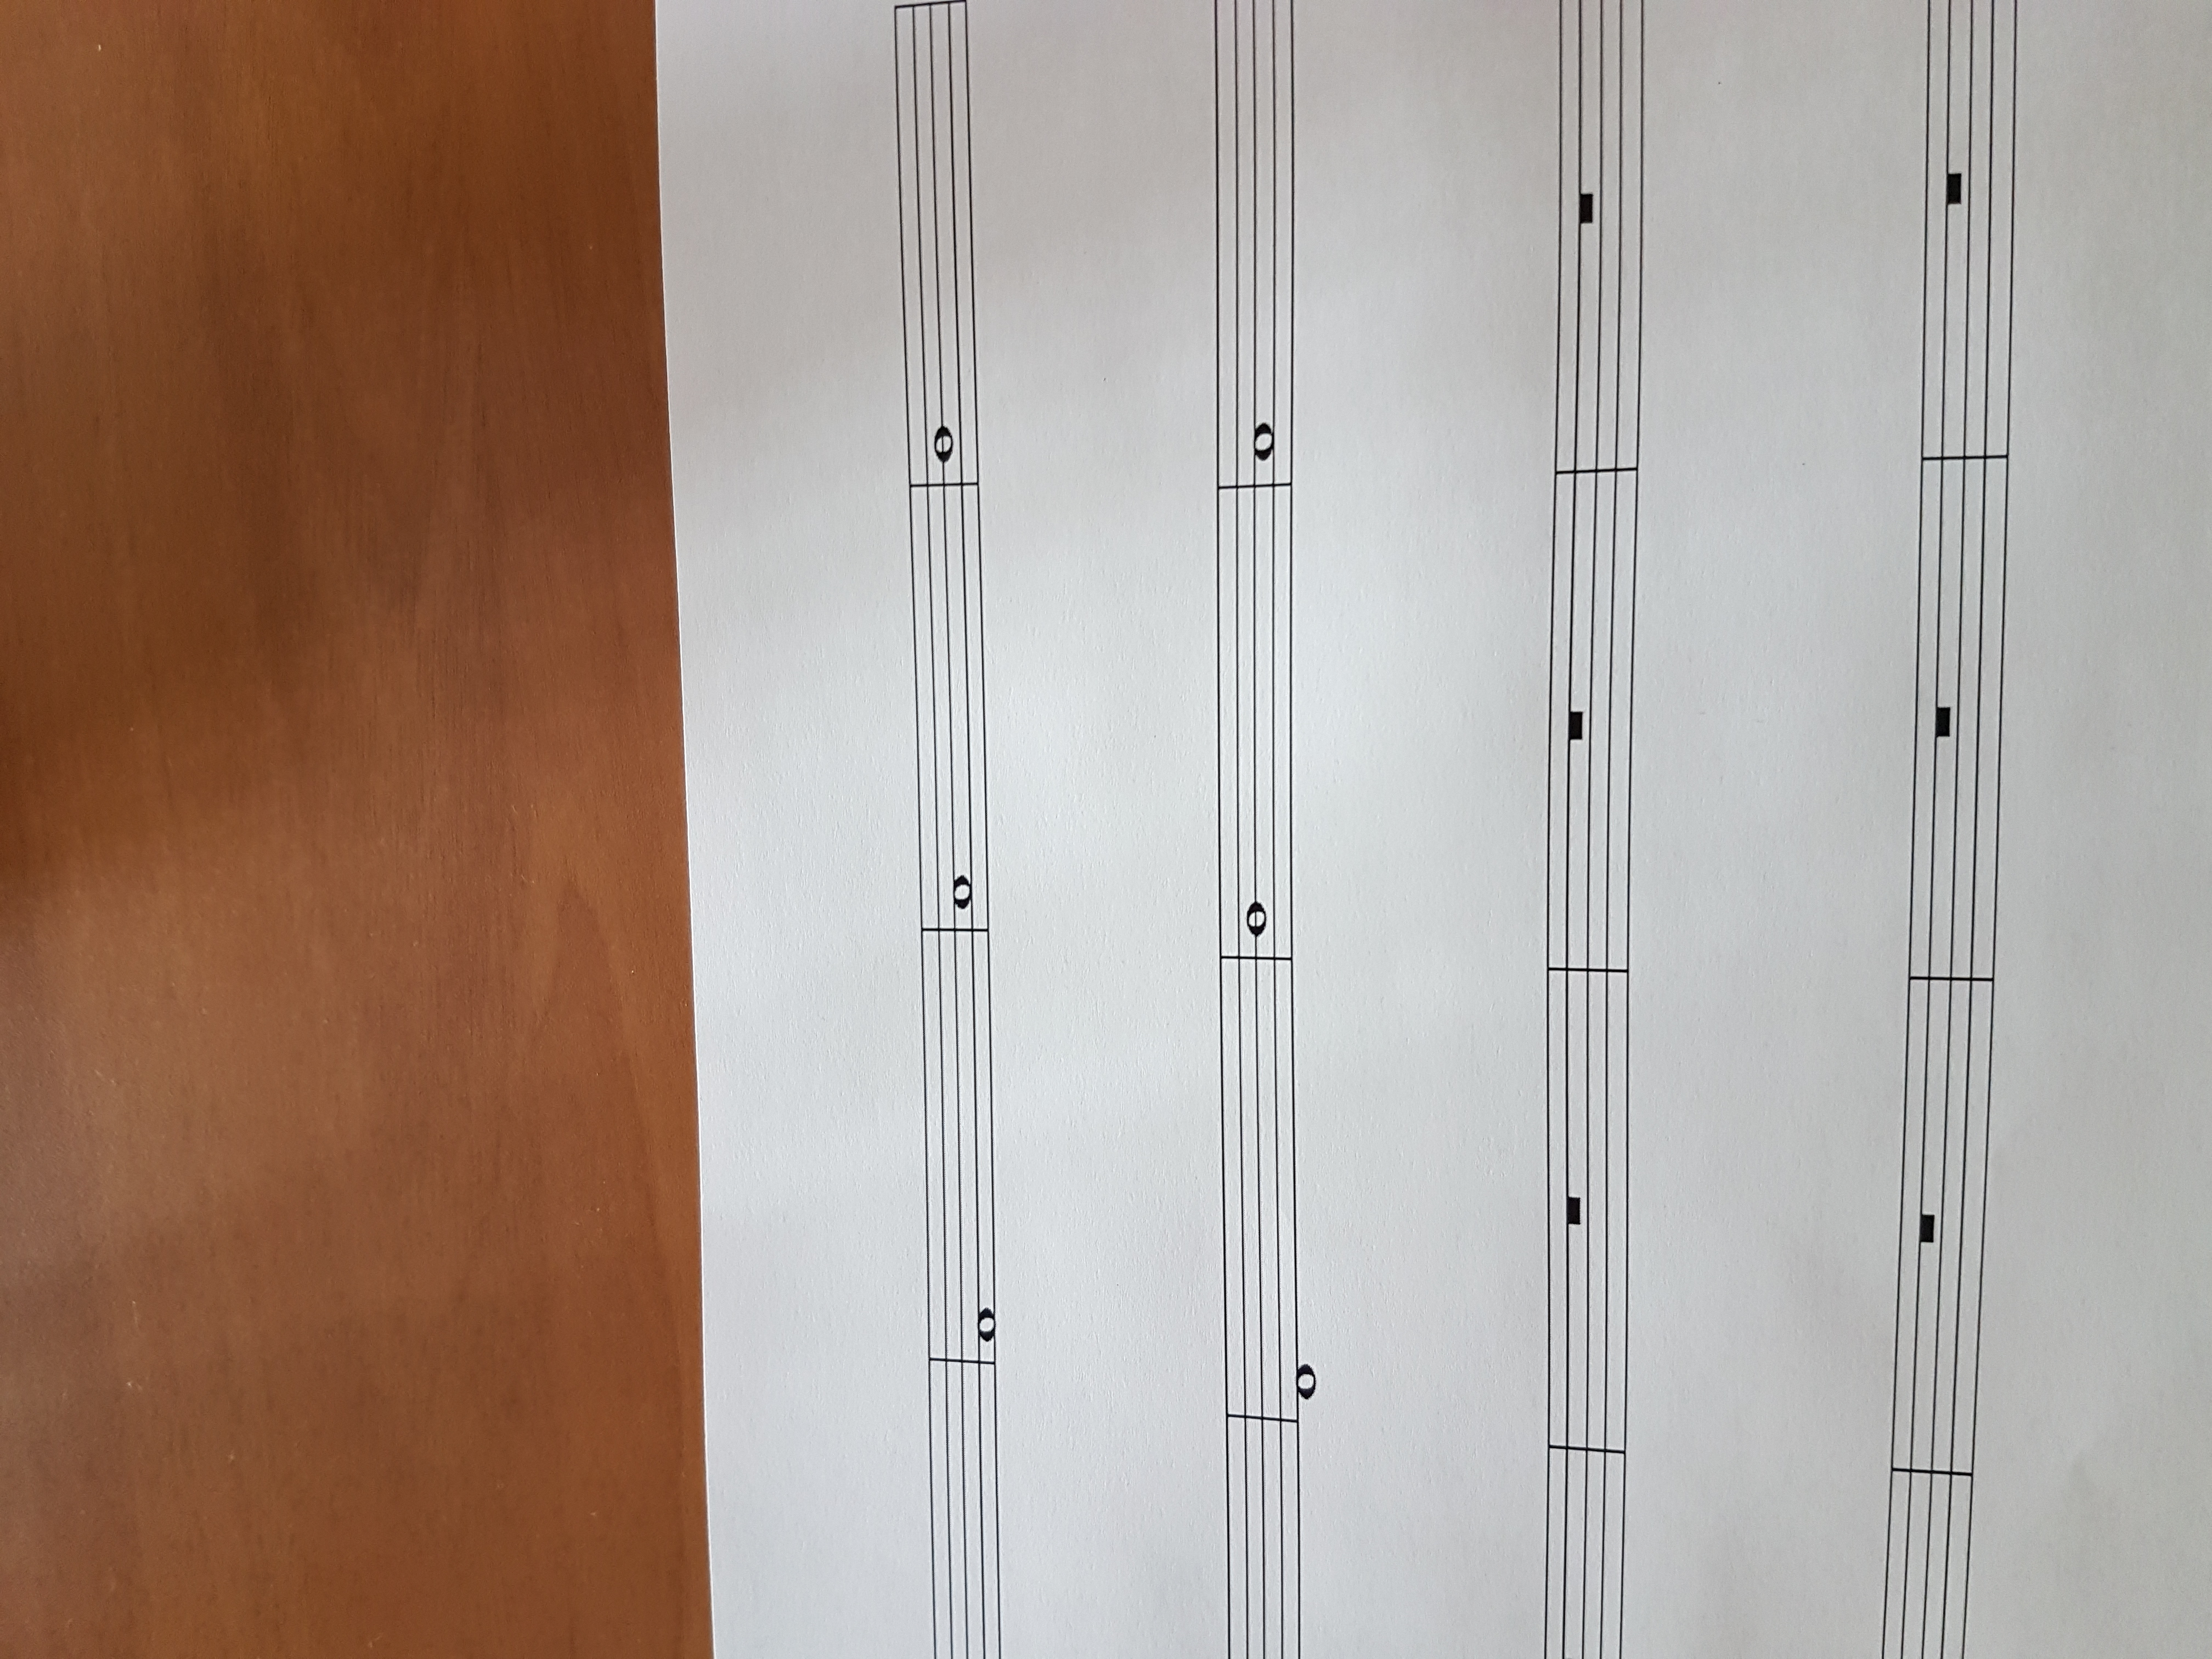pipe: (1893, 962, 2010, 997), (1198, 938, 1308, 974), (1533, 945, 1641, 981), (1534, 1429, 1637, 1466), (1879, 1452, 1987, 1485), (1541, 455, 1649, 486), (1907, 441, 2026, 469), (1211, 1403, 1315, 1434), (913, 1345, 1017, 1375), (907, 915, 1010, 945), (894, 469, 993, 495), (1205, 476, 1306, 493)
semibreve_a: (1190, 403, 1318, 474), (899, 856, 1008, 920)
semibreve_d: (1204, 1342, 1339, 1412)
semibreve_f: (911, 1284, 1019, 1349)
semibreve_h: (1193, 884, 1320, 948), (883, 410, 1001, 472)
